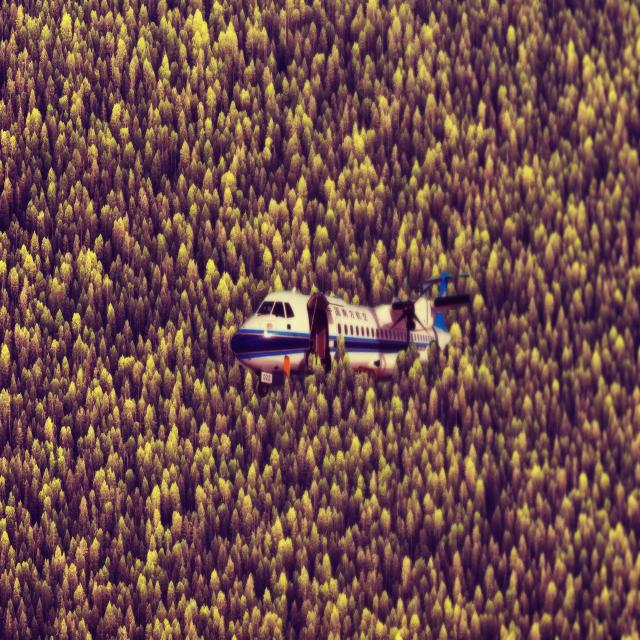airplane: (229, 269, 471, 394)
